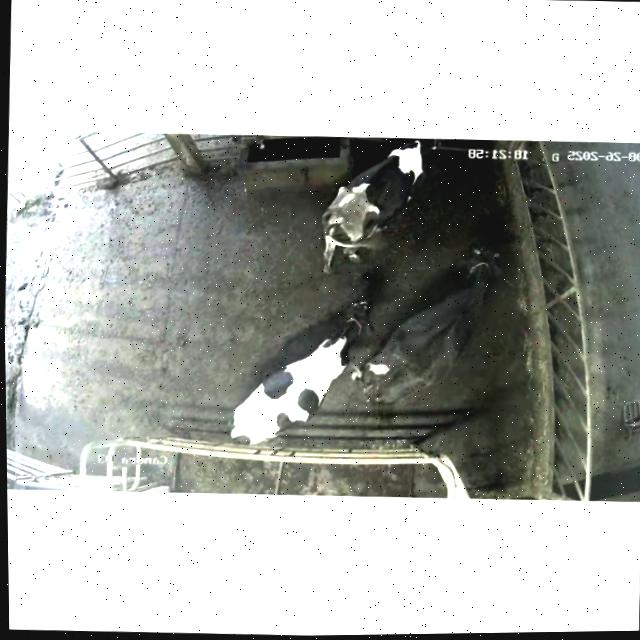stand: (352, 235, 509, 429), (204, 284, 377, 452), (311, 133, 460, 277)
